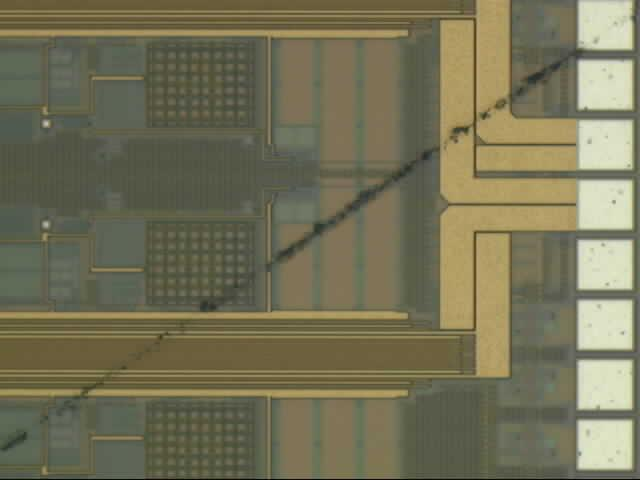SCRATCH: (1, 1, 640, 474)
